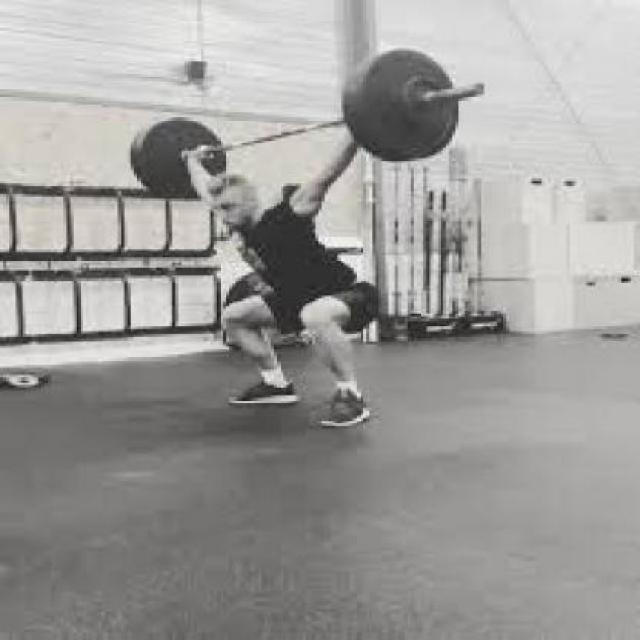Barbell: (469, 80, 491, 96)
